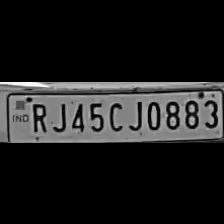0: (142, 96, 162, 130)
3: (200, 96, 218, 128)
4: (68, 97, 86, 132)
5: (84, 97, 104, 132)
8: (162, 96, 180, 130), (182, 95, 200, 129)
C: (105, 97, 125, 132)
J: (50, 97, 68, 133), (125, 96, 143, 132)
R: (28, 99, 48, 134)
